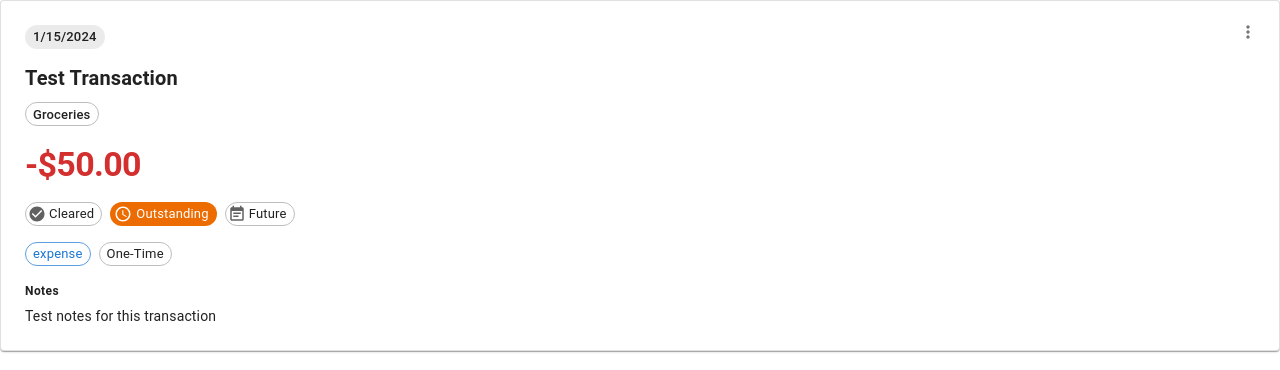
TransactionCard › Actions Menu › should open actions menu when menu button is clicked
Click the 1st button at [1248, 32], box top-left (1233, 17), bottom-right (1263, 47)
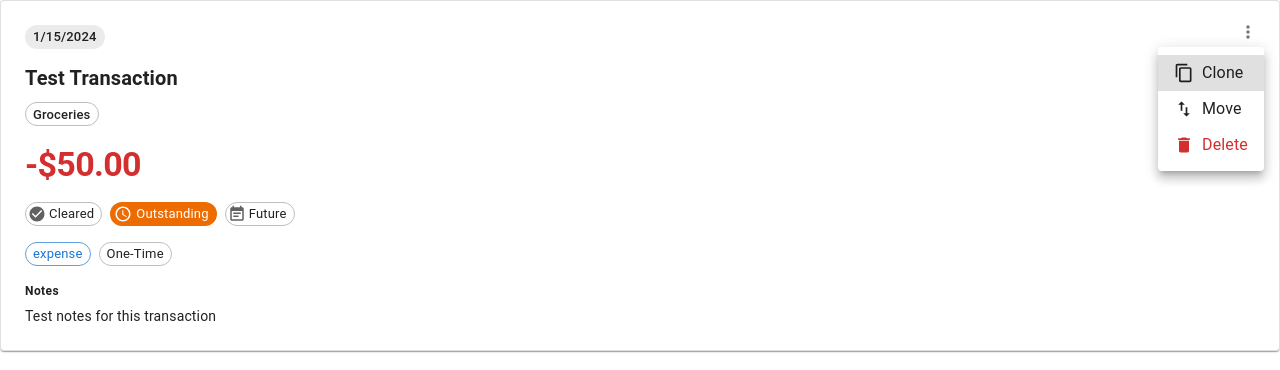
Now the menu item "Clone" is shown, box top-left (1158, 55), bottom-right (1264, 91)
Now the menu item "Move" is shown, box top-left (1174, 99), bottom-right (1242, 119)
Now the menu item "Delete" is shown, box top-left (1174, 135), bottom-right (1248, 155)
